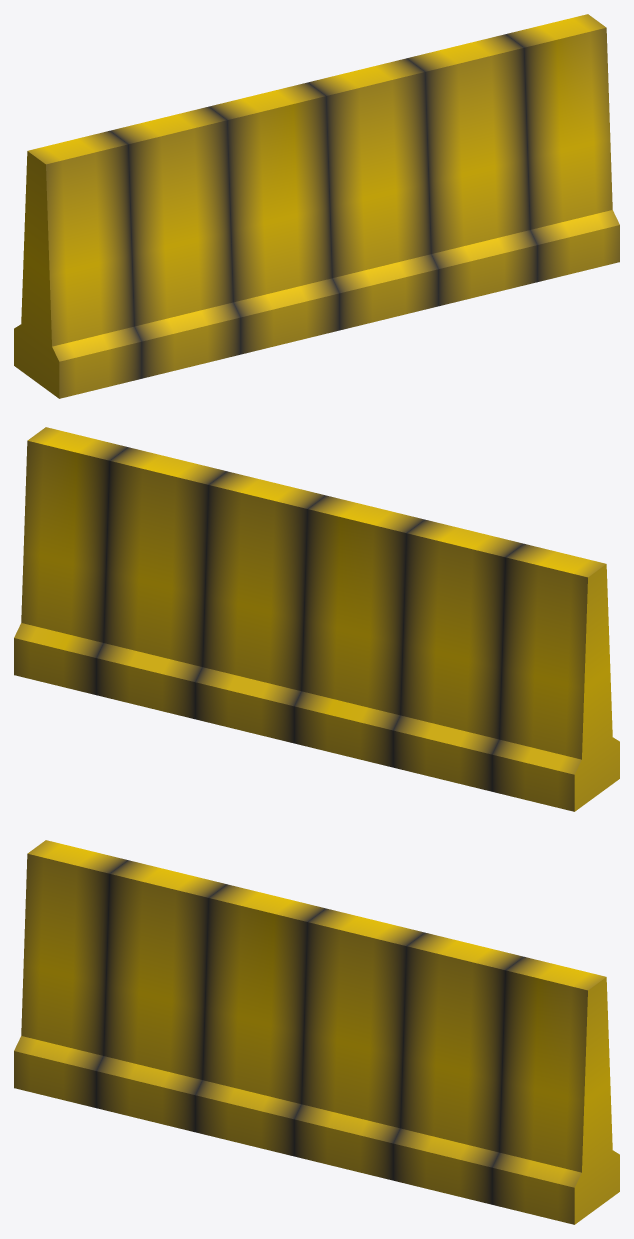
File: Barrier1.fbx
3 views of the same model, one above another, from view 1: azimuth 30°, elevation 25°; view 2: azimuth 150°, elevation 25°; view 3: azimuth 330°, elevation 25° (orthographic).
Parts seen in each view (by area): view 1: Barrier1; view 2: Barrier1; view 3: Barrier1.
Part boxes in pixels (bbox=[...]): Barrier1: bbox=[14, 14, 619, 398]; Barrier1: bbox=[14, 427, 619, 811]; Barrier1: bbox=[14, 840, 619, 1224].
Bounding box in the file's own units: 4.45 × 1.7 × 0.6226.
